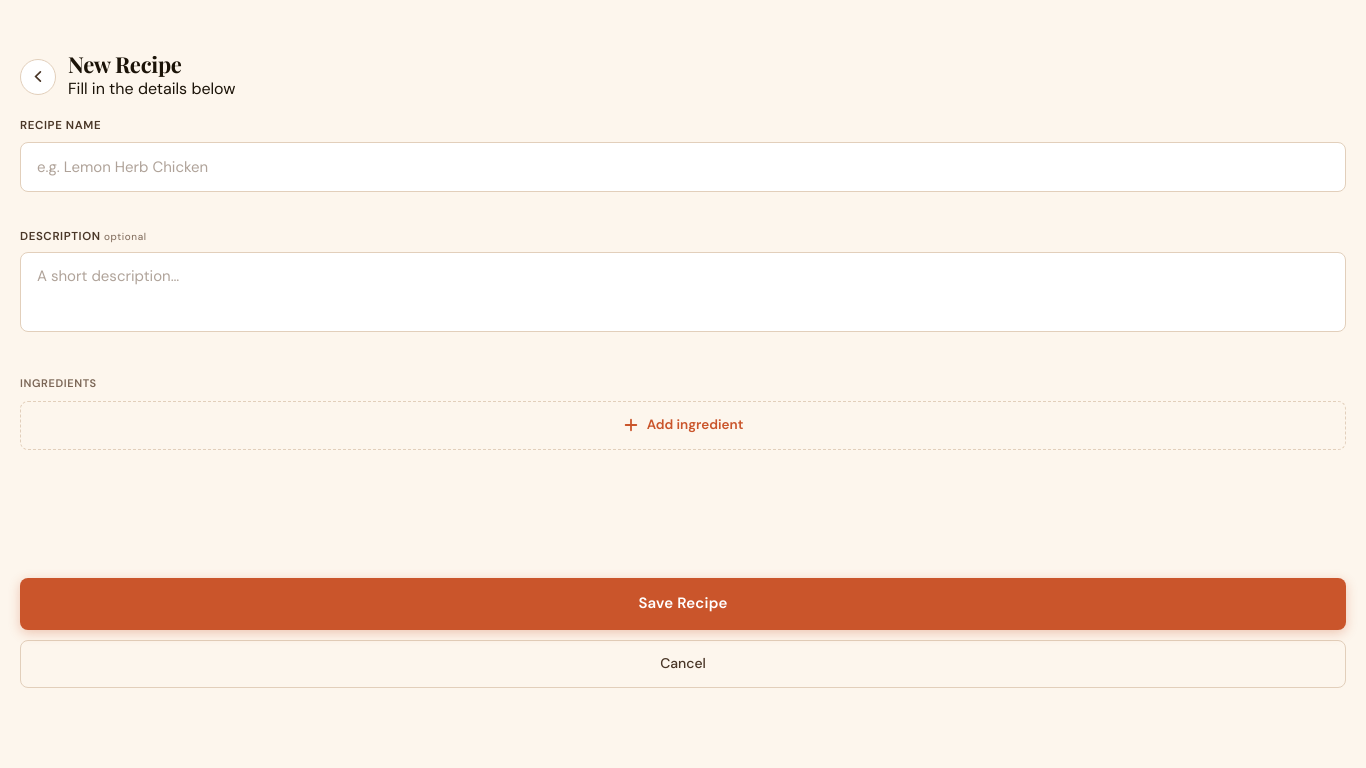
RecipeFormPage – create › shows ingredient validation error when submitting with no ingredients
Type "My Recipe" into the field labelled "Recipe name" at point(683, 166), box top-left (20, 142), bottom-right (1346, 192)
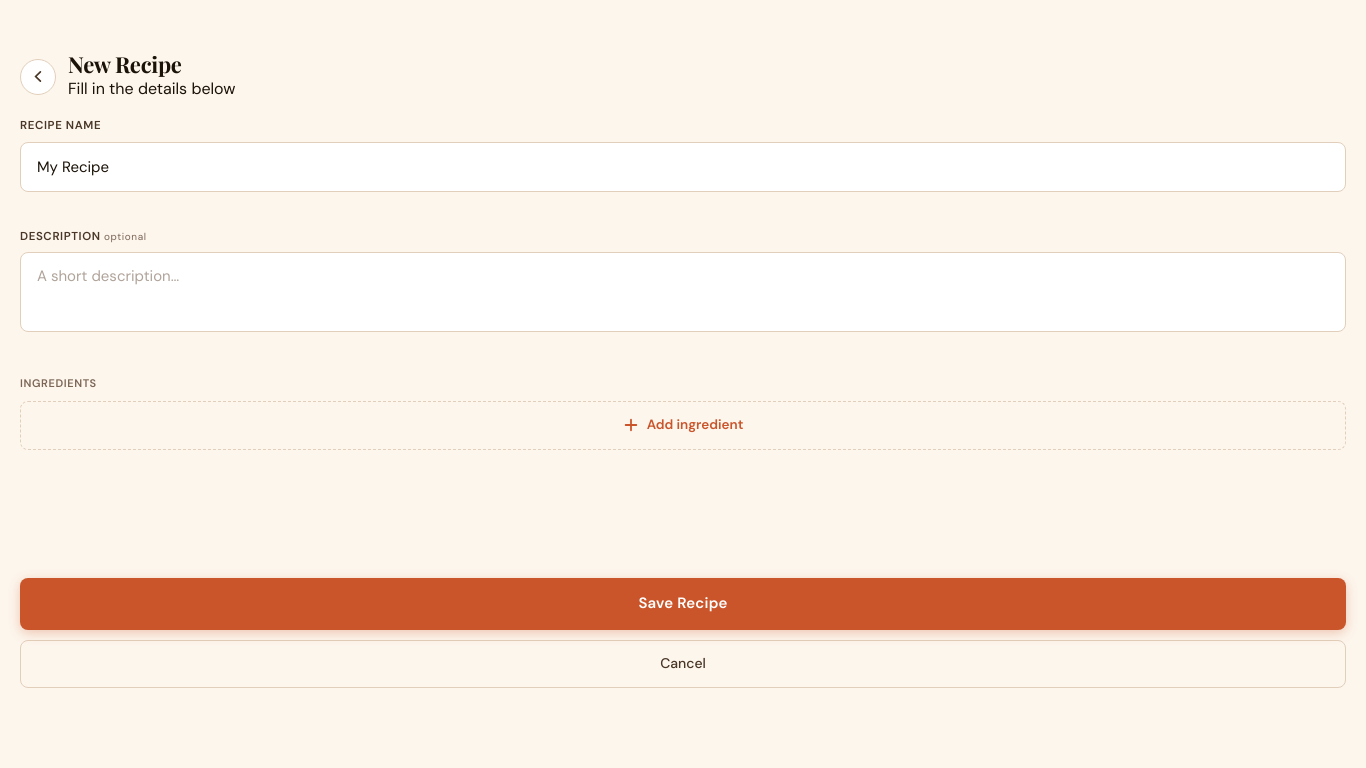
Click the button "Save Recipe" at point(683, 604), box top-left (20, 578), bottom-right (1346, 630)
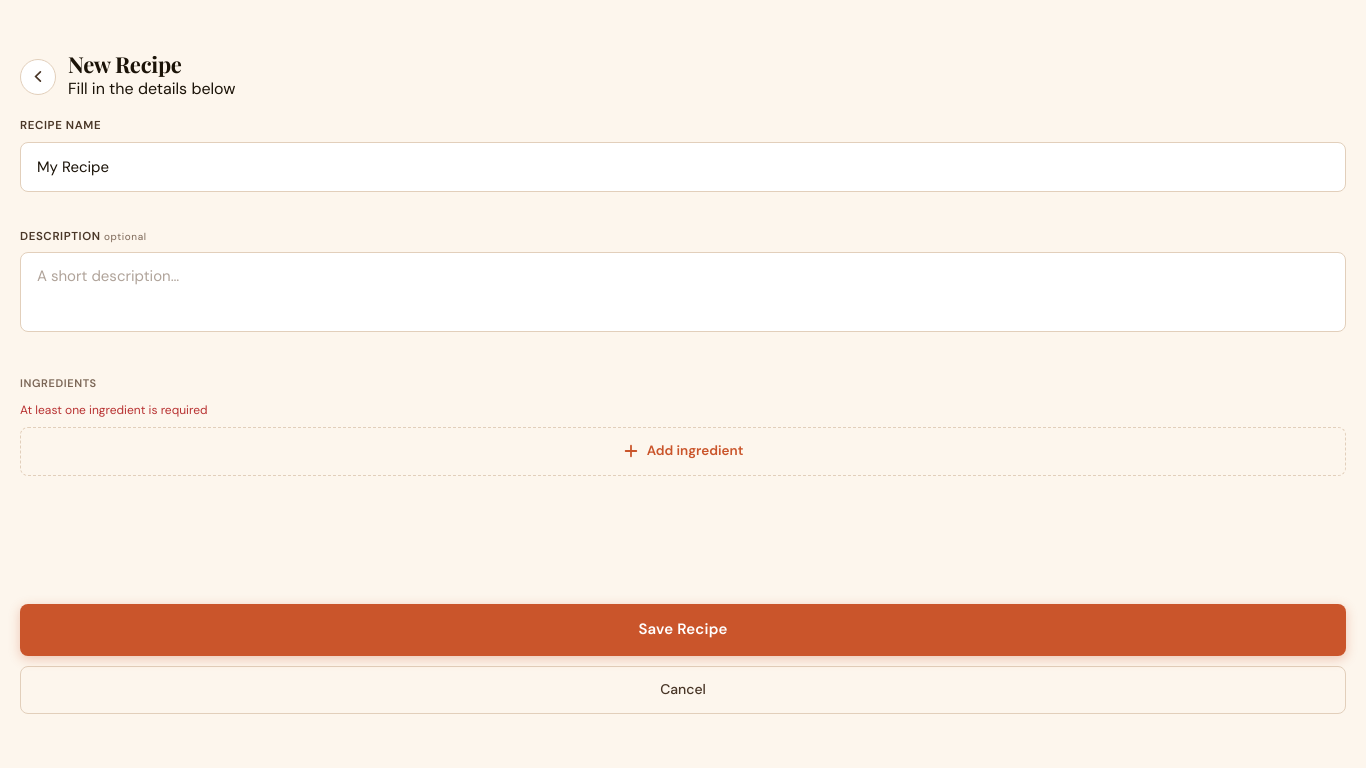
Expected: the text "At least one ingredient is required" is shown, top-left (20, 402), bottom-right (208, 418)
